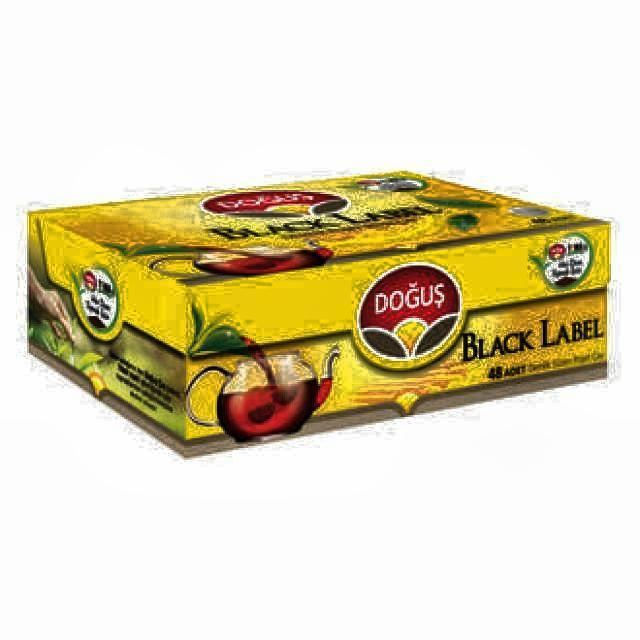cardboard: (26, 169, 613, 458)
